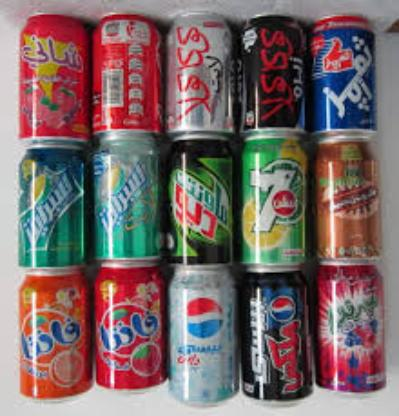Can: (18, 11, 88, 149), (162, 9, 238, 136), (238, 271, 312, 401), (166, 265, 236, 401), (18, 268, 92, 396), (237, 135, 307, 269), (88, 9, 160, 139), (315, 262, 385, 392), (89, 136, 161, 260), (94, 262, 164, 386), (166, 140, 236, 262), (312, 136, 380, 260), (17, 145, 87, 263), (238, 13, 306, 132), (310, 13, 376, 132)
